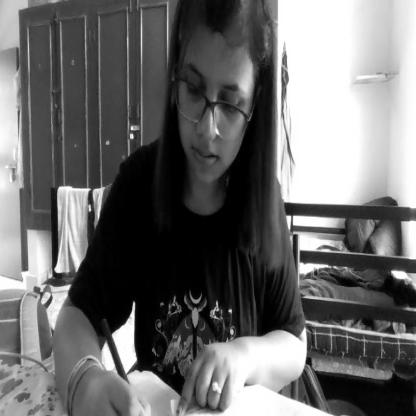Normal: (169, 2, 270, 194)
